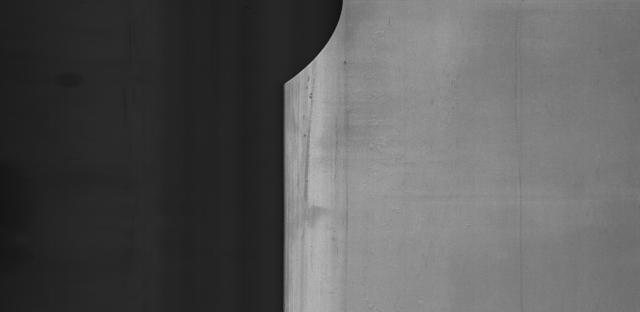crescent_gap: (257, 0, 358, 107)
